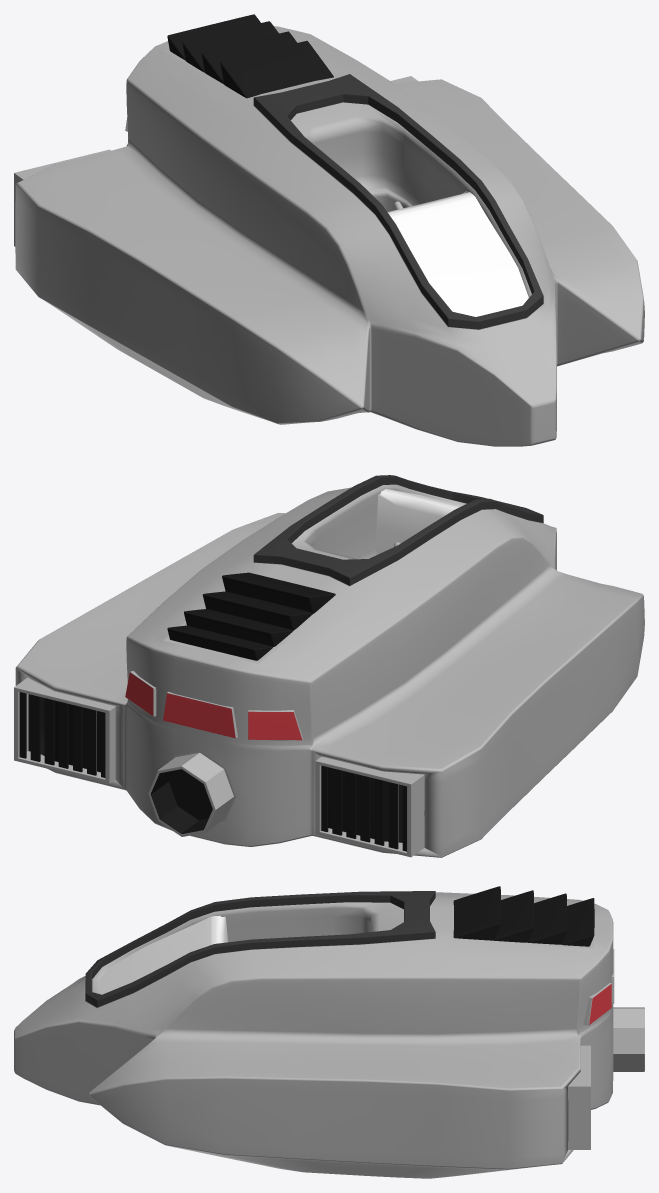
Rendered from Ship.fbx.
3 views of the same model, one above another, from view 1: azimuth 30°, elevation 25°; view 2: azimuth 150°, elevation 25°; view 3: azimuth 270°, elevation 25° (orthographic). The views are drawn at different scales.
Visible parts, largest first — view 1: obj_merged_ship.011, obj_merged_ship.010, obj_merged_ship.005; view 2: obj_merged_ship.011, obj_merged_ship.005, obj_merged_ship.001, obj_merged_ship, obj_merged_ship.010, obj_merged_ship.004, obj_merged_ship.003, obj_merged_ship.002; view 3: obj_merged_ship.011, obj_merged_ship.005, obj_merged_ship.010, obj_merged_ship, obj_merged_ship.002.
Boxes of the visible parts, <box> form: obj_merged_ship.011: <box>15,26,644,446</box>; obj_merged_ship.010: <box>387,191,528,316</box>; obj_merged_ship.005: <box>167,14,333,98</box>; obj_merged_ship.011: <box>15,475,644,857</box>; obj_merged_ship.005: <box>167,572,335,660</box>; obj_merged_ship.001: <box>315,756,424,857</box>; obj_merged_ship: <box>14,677,115,783</box>; obj_merged_ship.010: <box>376,489,462,554</box>; obj_merged_ship.004: <box>162,691,237,738</box>; obj_merged_ship.003: <box>248,710,302,740</box>; obj_merged_ship.002: <box>125,671,156,716</box>; obj_merged_ship.011: <box>14,891,644,1178</box>; obj_merged_ship.005: <box>453,886,594,946</box>; obj_merged_ship.010: <box>98,916,228,994</box>; obj_merged_ship: <box>568,1045,590,1149</box>; obj_merged_ship.002: <box>583,982,611,1025</box>.
Bounding box in the file's own units: 227 × 111 × 320.
